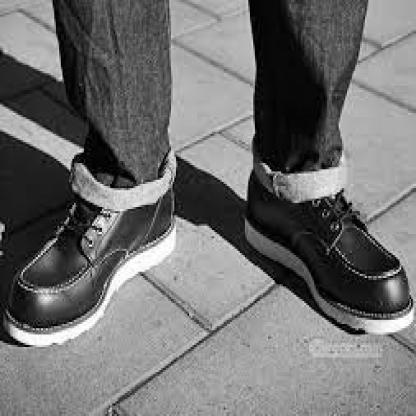ankle: (264, 188, 270, 197), (141, 203, 148, 209)
heel: (248, 230, 254, 238), (168, 243, 173, 250)
left_foot: (247, 170, 415, 335)
pinky: (12, 298, 18, 306), (405, 282, 410, 290)
right_foot: (5, 190, 178, 348)
toe: (355, 298, 362, 305), (42, 312, 48, 320)
